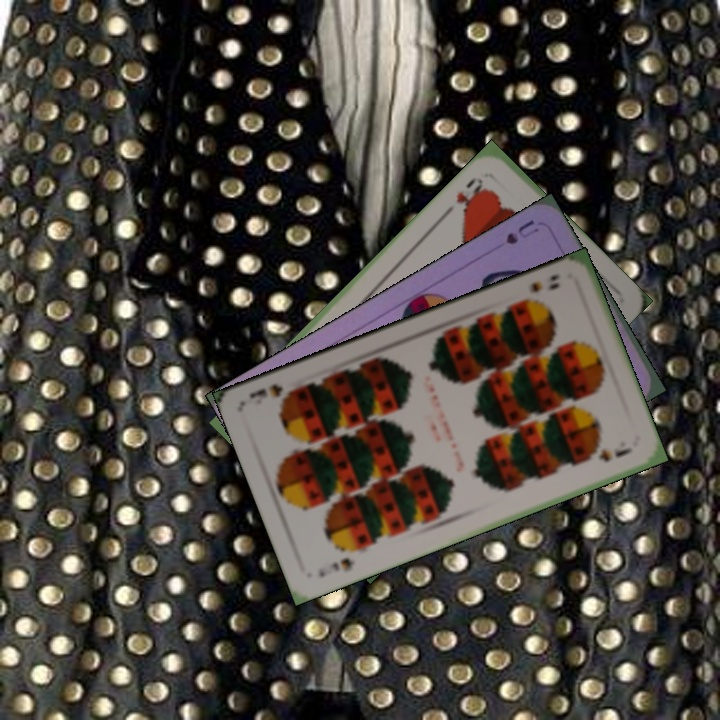HO: (452, 173, 489, 215)
S9: (314, 554, 358, 580), (525, 270, 563, 296)
SU: (501, 216, 542, 247)
